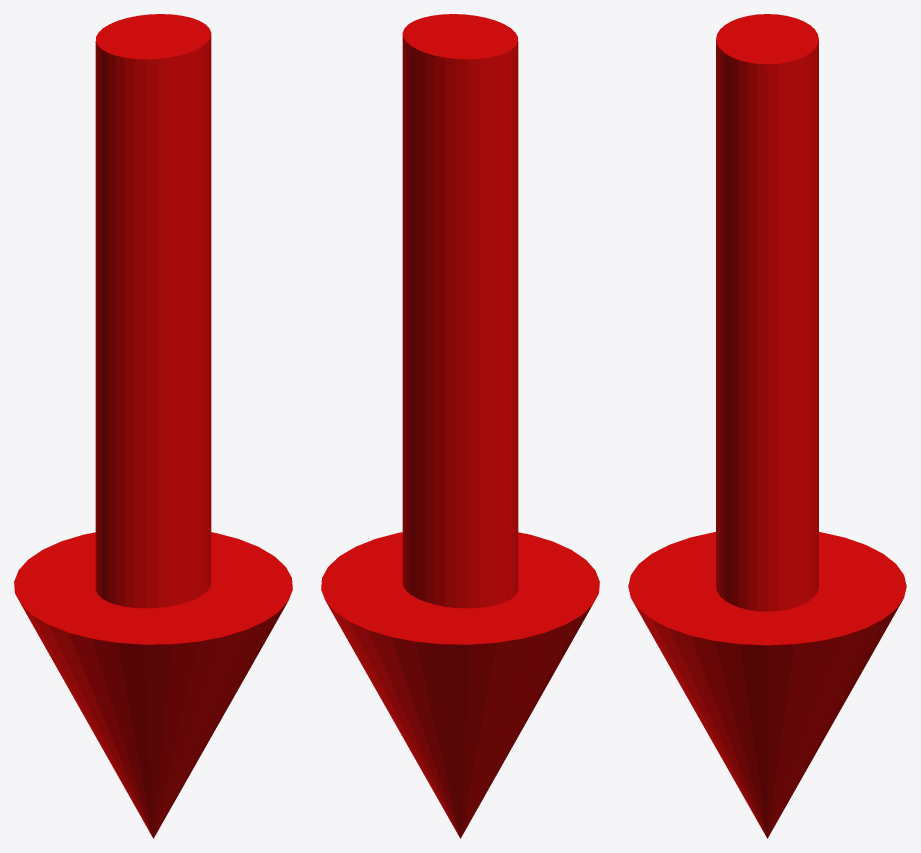
Rendered from arrow.obj.
3 views of the same model, side by side, from view 1: azimuth 30°, elevation 25°; view 2: azimuth 150°, elevation 25°; view 3: azimuth 270°, elevation 25° (orthographic).
Size of the model in its own units: 2 by 6.34 by 2.
